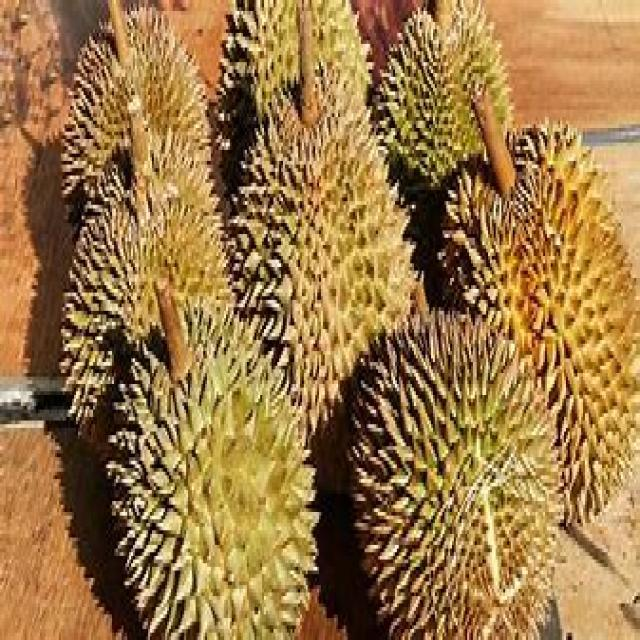mature: (441, 125, 636, 521), (352, 311, 559, 638), (231, 72, 414, 438)
